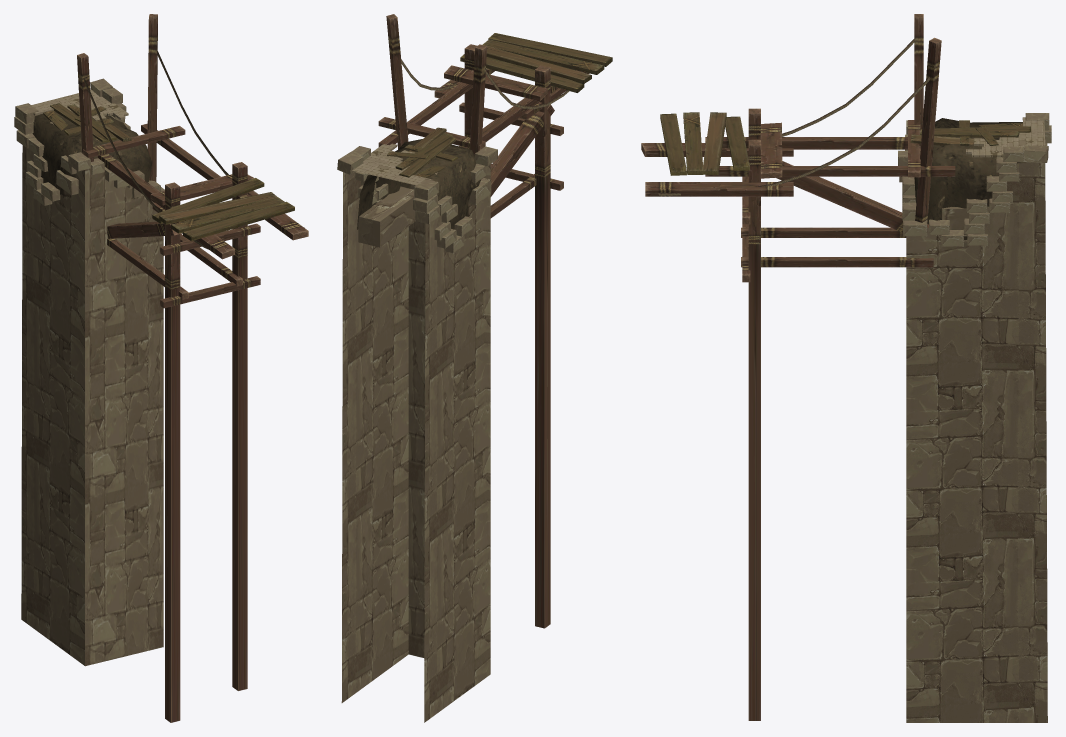
Rendered from bfcs_wujian_03.FBX.
The picture shows the model from 3 angles, left to right: view 1: azimuth 30°, elevation 25°; view 2: azimuth 150°, elevation 25°; view 3: azimuth 270°, elevation 25°; orthographic projection. The views are drawn at different scales.
Parts seen in each view (by area): view 1: bfcs_03, bfcs_01, bfcs_wujian_03; view 2: bfcs_03, bfcs_01, bfcs_wujian_03; view 3: bfcs_03, bfcs_01, bfcs_wujian_03.
Part boxes in pixels (x1=…): bfcs_03: x1=14, y1=78, x2=164, y2=666; bfcs_01: x1=43, y1=14, x2=308, y2=722; bfcs_wujian_03: x1=31, y1=89, x2=152, y2=195; bfcs_03: x1=337, y1=146, x2=497, y2=722; bfcs_01: x1=378, y1=14, x2=612, y2=628; bfcs_wujian_03: x1=352, y1=139, x2=480, y2=235; bfcs_03: x1=898, y1=113, x2=1051, y2=722; bfcs_01: x1=641, y1=14, x2=1030, y2=720; bfcs_wujian_03: x1=914, y1=117, x2=1045, y2=239.
Size of the model in its own units: 254 by 1323 by 711.
